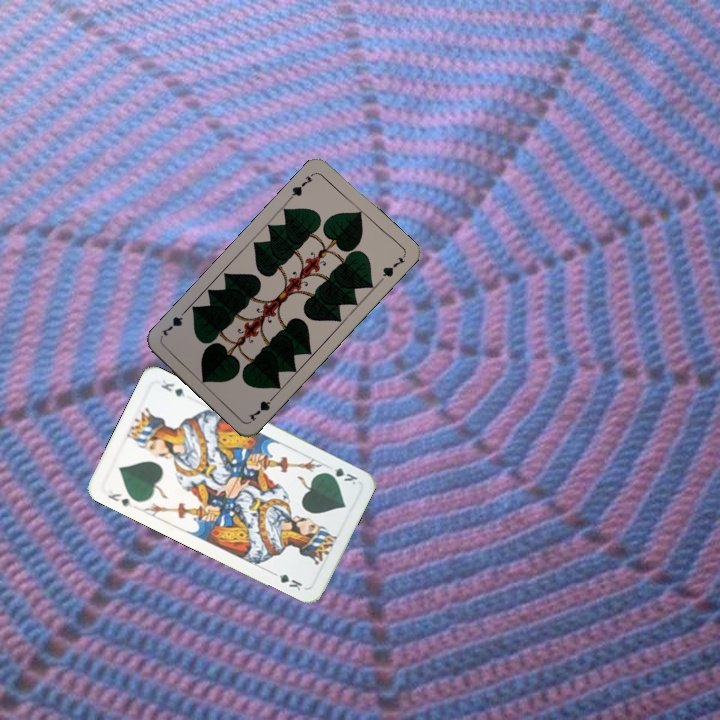G7: (244, 390, 279, 423), (285, 169, 317, 202)
GK: (321, 464, 360, 487), (103, 489, 135, 509)
